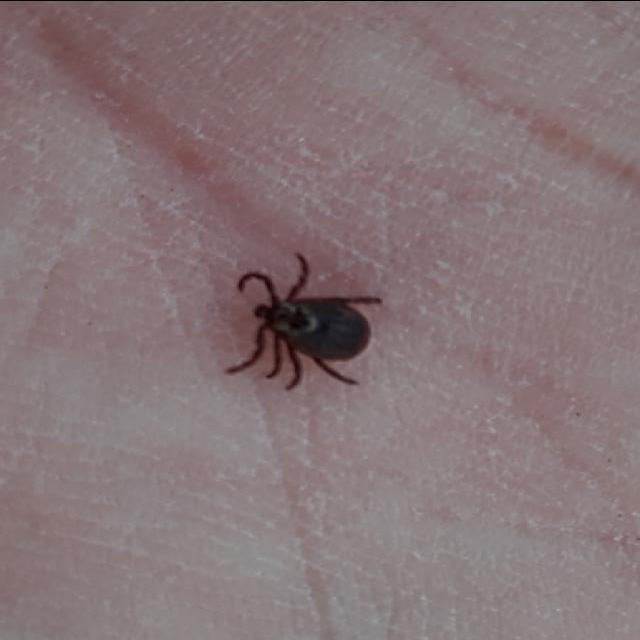Dermacentor Reticulatus-F: (225, 251, 381, 389)
